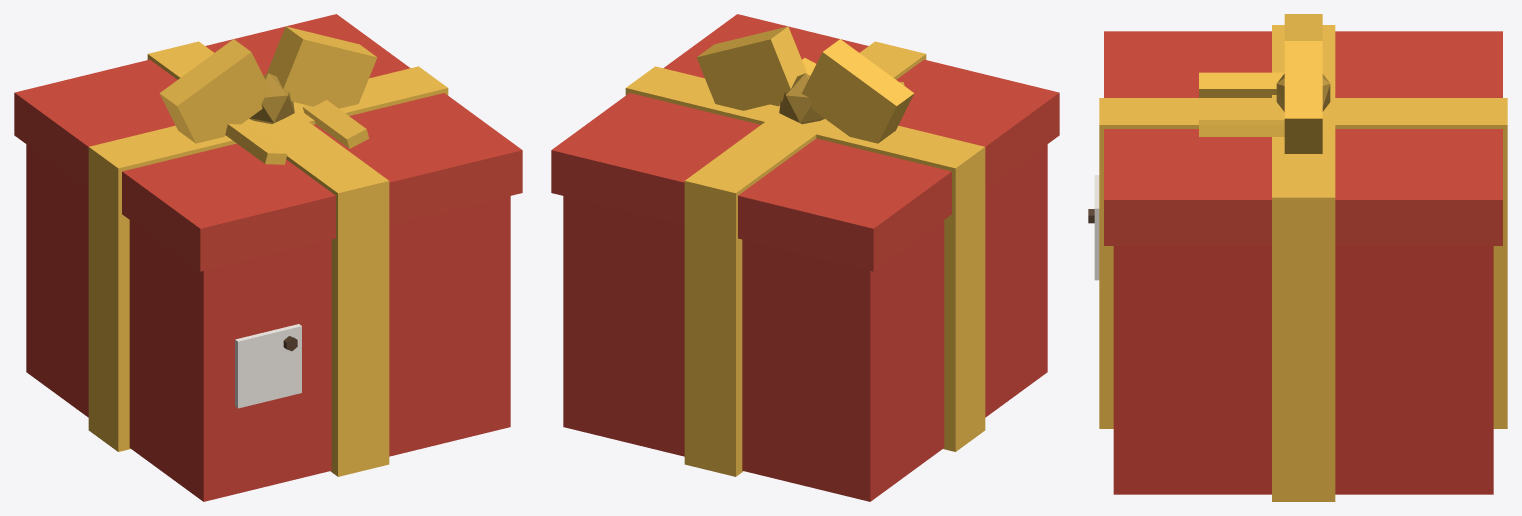
Rendered from CatCafe_Prop_TomorrowGift.glb.
3 views of the same model, side by side, from view 1: azimuth 30°, elevation 25°; view 2: azimuth 150°, elevation 25°; view 3: azimuth 270°, elevation 25° (orthographic). The views are drawn at different scales.
Visible parts, largest first — view 1: CatCafe_Prop_TomorrowGift; view 2: CatCafe_Prop_TomorrowGift; view 3: CatCafe_Prop_TomorrowGift.
Boxes of the visible parts, x1,y1,x2,y2 form: CatCafe_Prop_TomorrowGift: (14, 14, 522, 501); CatCafe_Prop_TomorrowGift: (551, 14, 1059, 501); CatCafe_Prop_TomorrowGift: (1088, 14, 1507, 501).
Bounding box in the file's own units: 1.29 × 1.35 × 1.32.
Materials: 1 (1 with a texture image).
